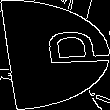P_W: (5, 35, 105, 75)
